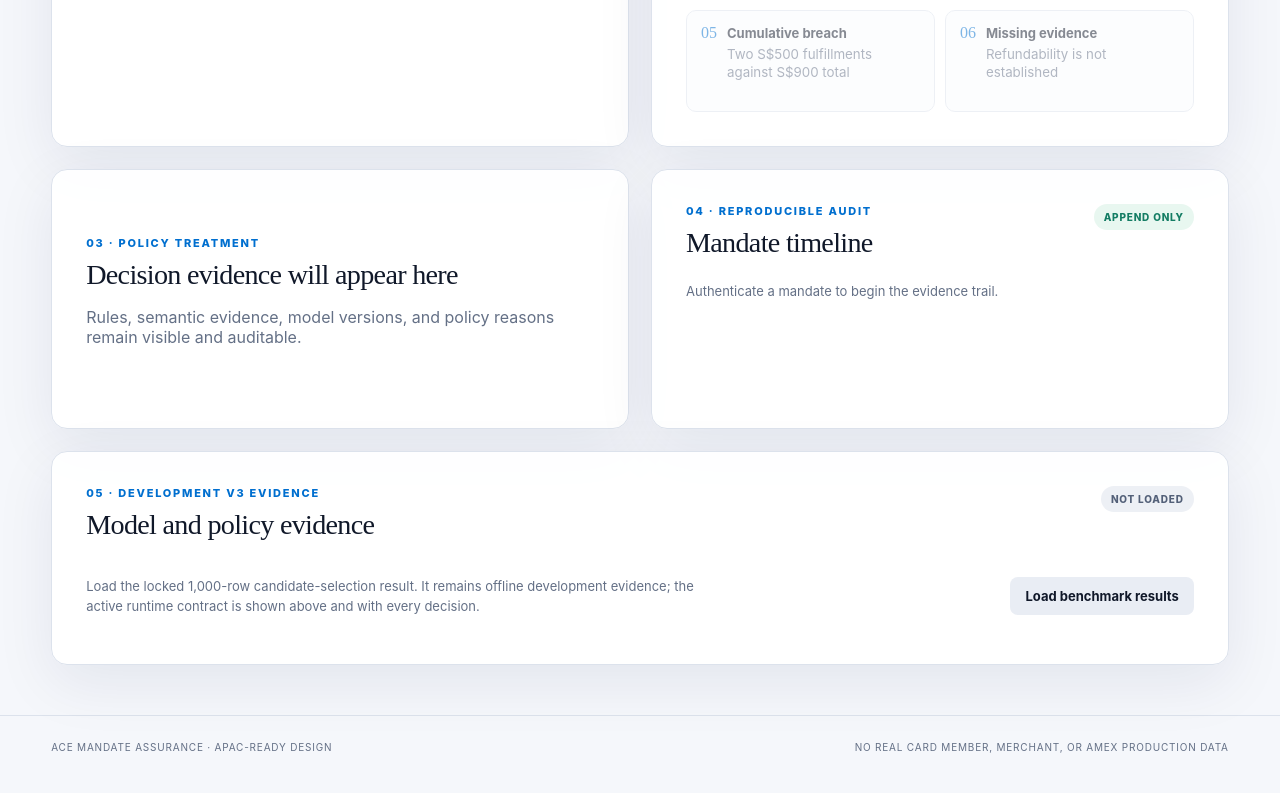
Scenario: AssuranceWorkspace › loads frozen benchmark evidence on demand
(page scrolled)
Click the button "Load benchmark results": (1102, 596) [1010, 578, 1194, 616]
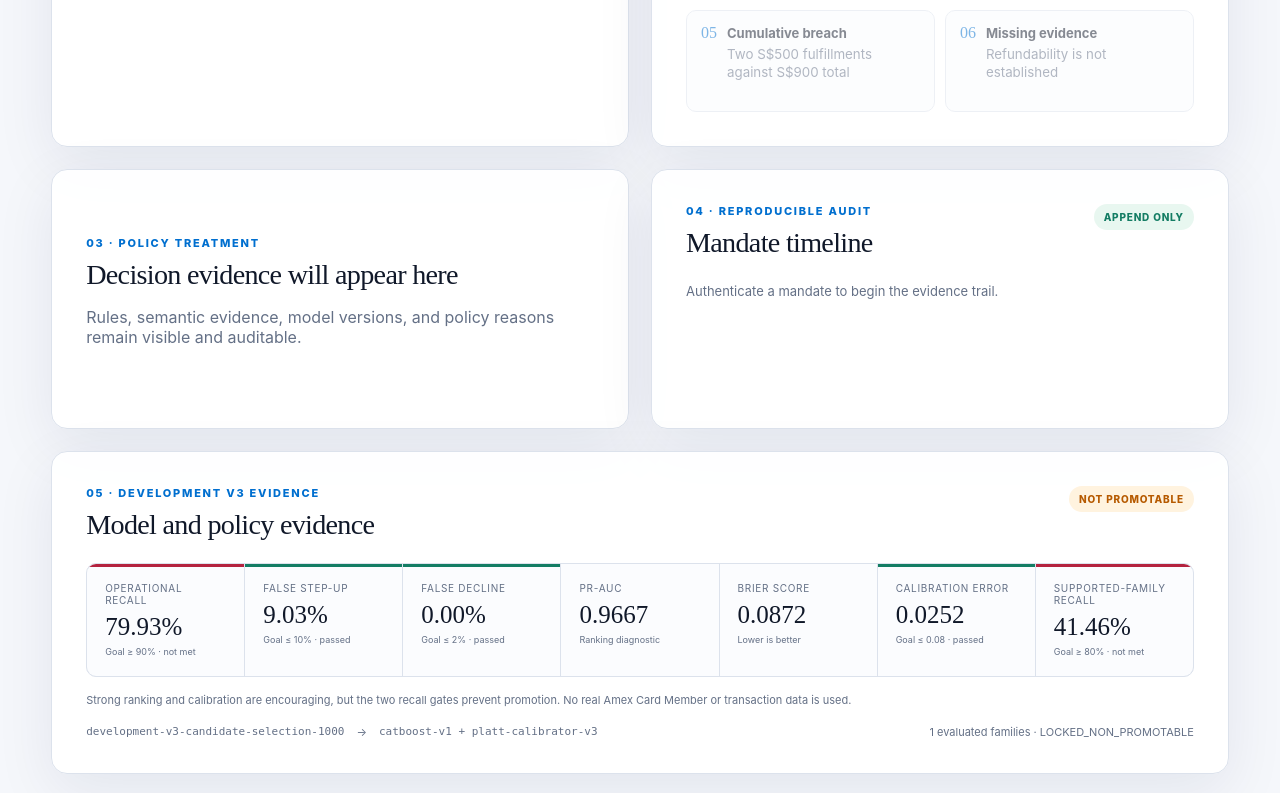
Check: the text "catboost-v1 + platt-calibrator-v3" is shown, box [379, 726, 598, 738]
Check: the text "0.9667" is shown, box [580, 601, 648, 628]
Check: the text "79.93%" is shown, box [105, 613, 182, 640]
